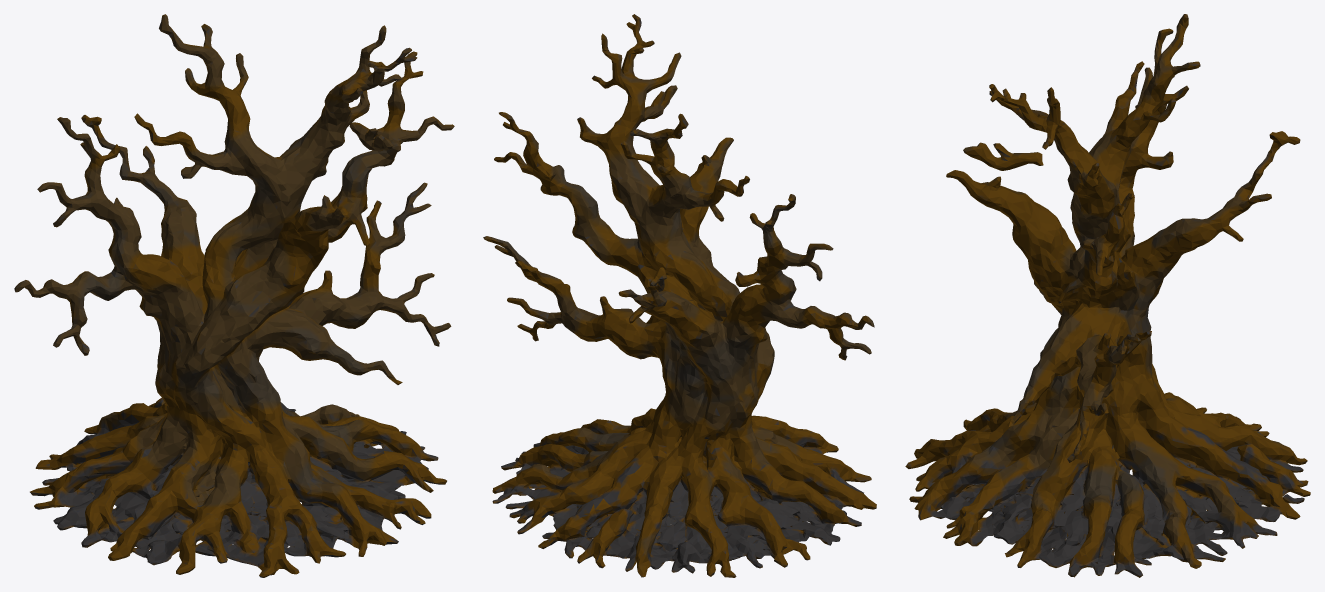
The model's file is arvore_seca.glb.
3 views of the same model, side by side, from view 1: azimuth 30°, elevation 25°; view 2: azimuth 150°, elevation 25°; view 3: azimuth 270°, elevation 25° (orthographic). The views are drawn at different scales.
Parts seen in each view (by area): view 1: tmpjbui33cj.ply; view 2: tmpjbui33cj.ply; view 3: tmpjbui33cj.ply.
Boxes of the visible parts, bbox=[...] form: tmpjbui33cj.ply: bbox=[14, 14, 454, 577]; tmpjbui33cj.ply: bbox=[483, 14, 876, 577]; tmpjbui33cj.ply: bbox=[905, 14, 1310, 577].
Size of the model in its own units: 1.91 by 1.97 by 1.57.
1 material, 1 textured.
